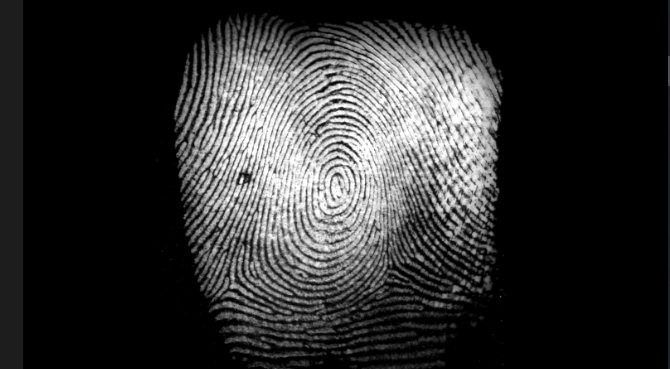deltas: (206, 255, 258, 303), (368, 242, 416, 288)
nucleo: (317, 172, 360, 211)
